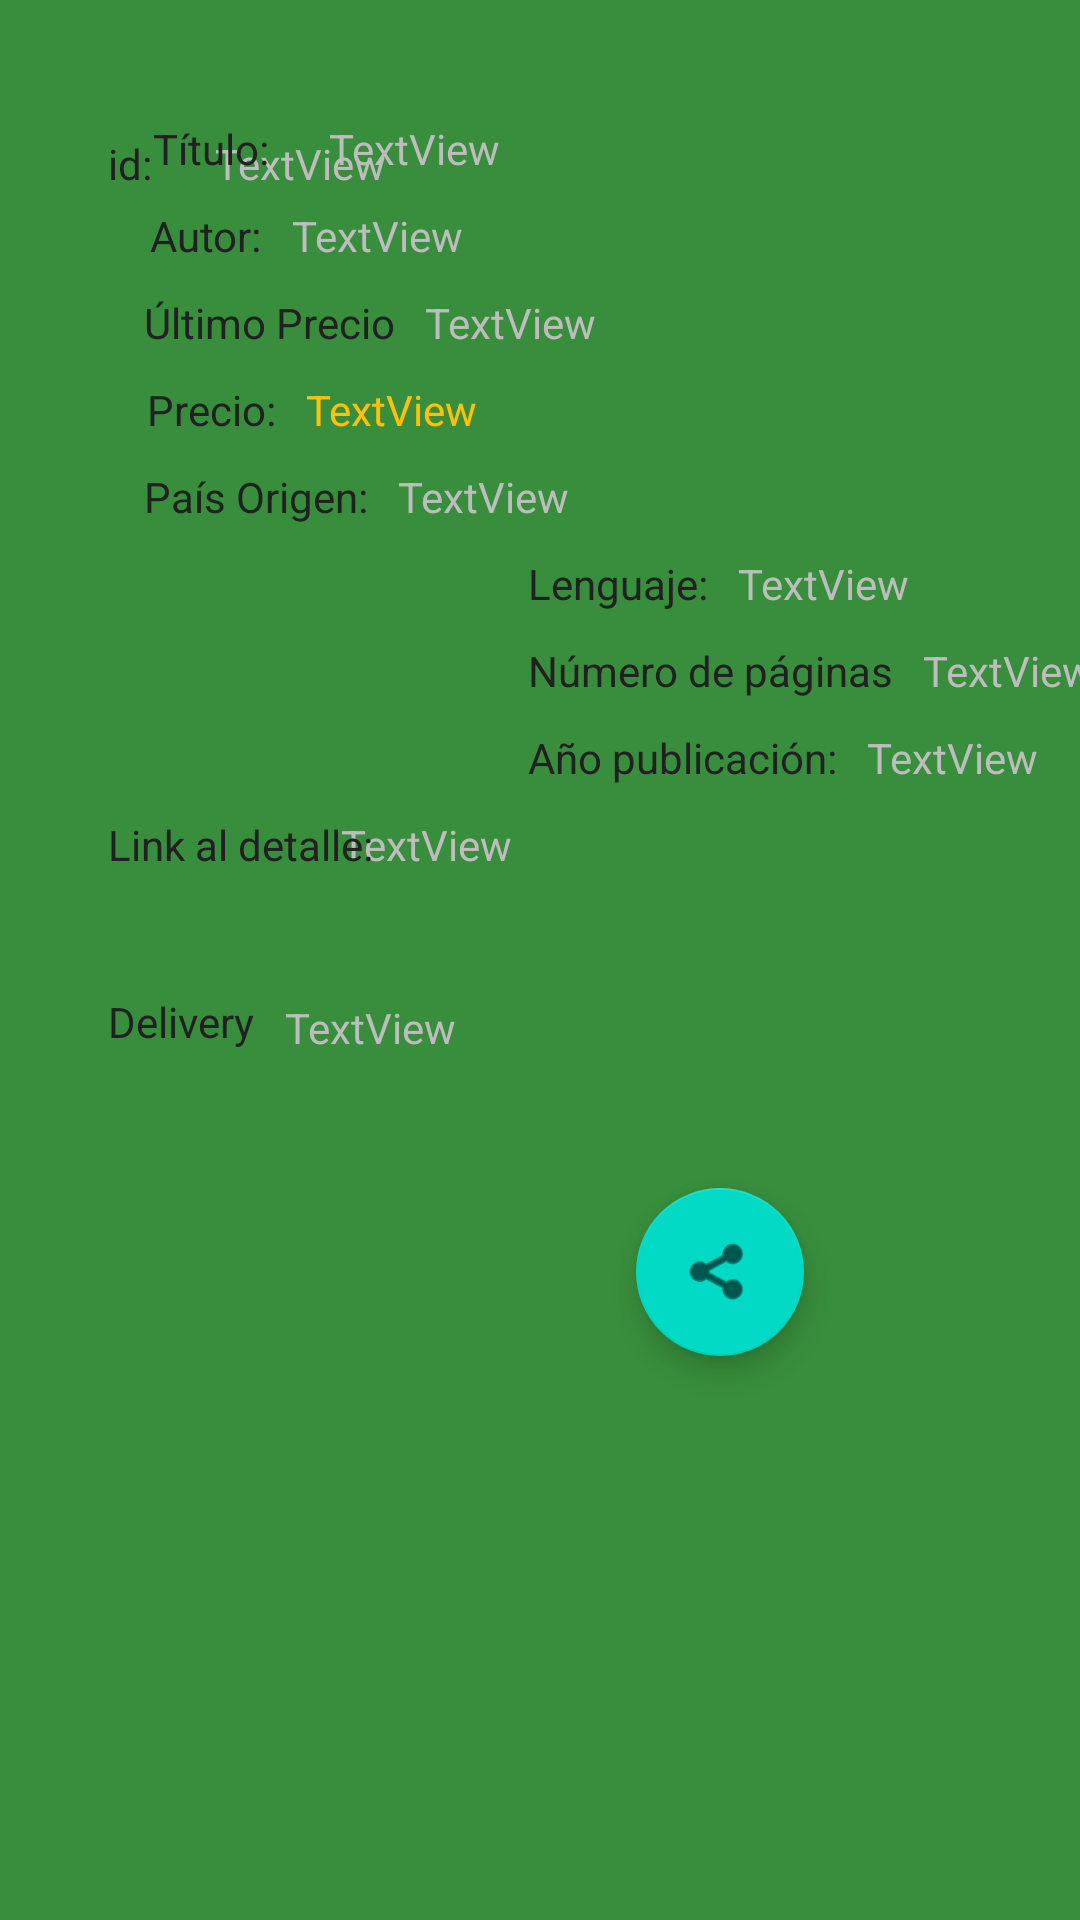

Screen size 1080 x 1920. Icon name, then its center in pixels as point (x, y):
share: point (720, 1272)
